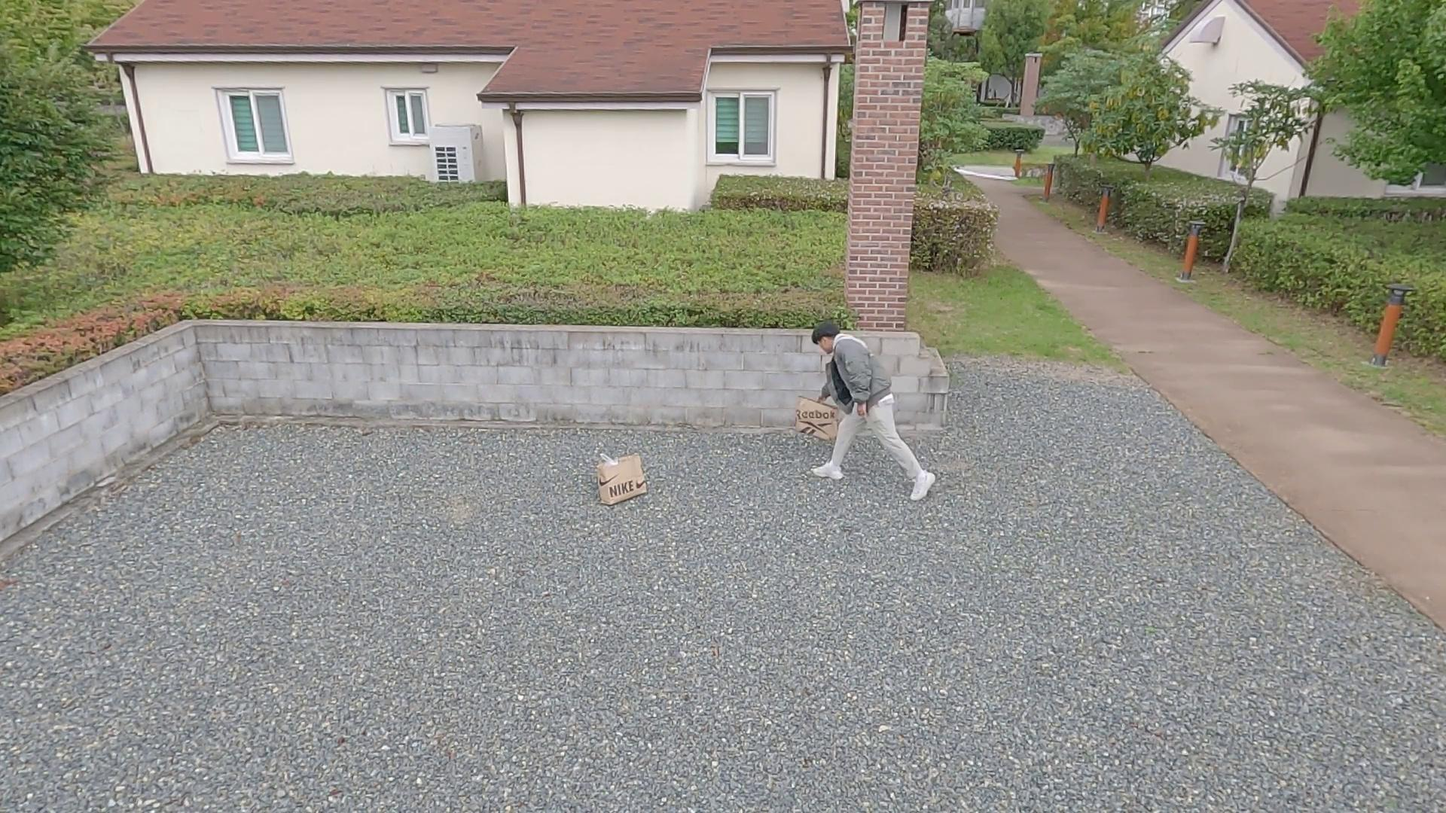person: (801, 315, 943, 508)
trash: (591, 450, 654, 506), (792, 393, 847, 445)
